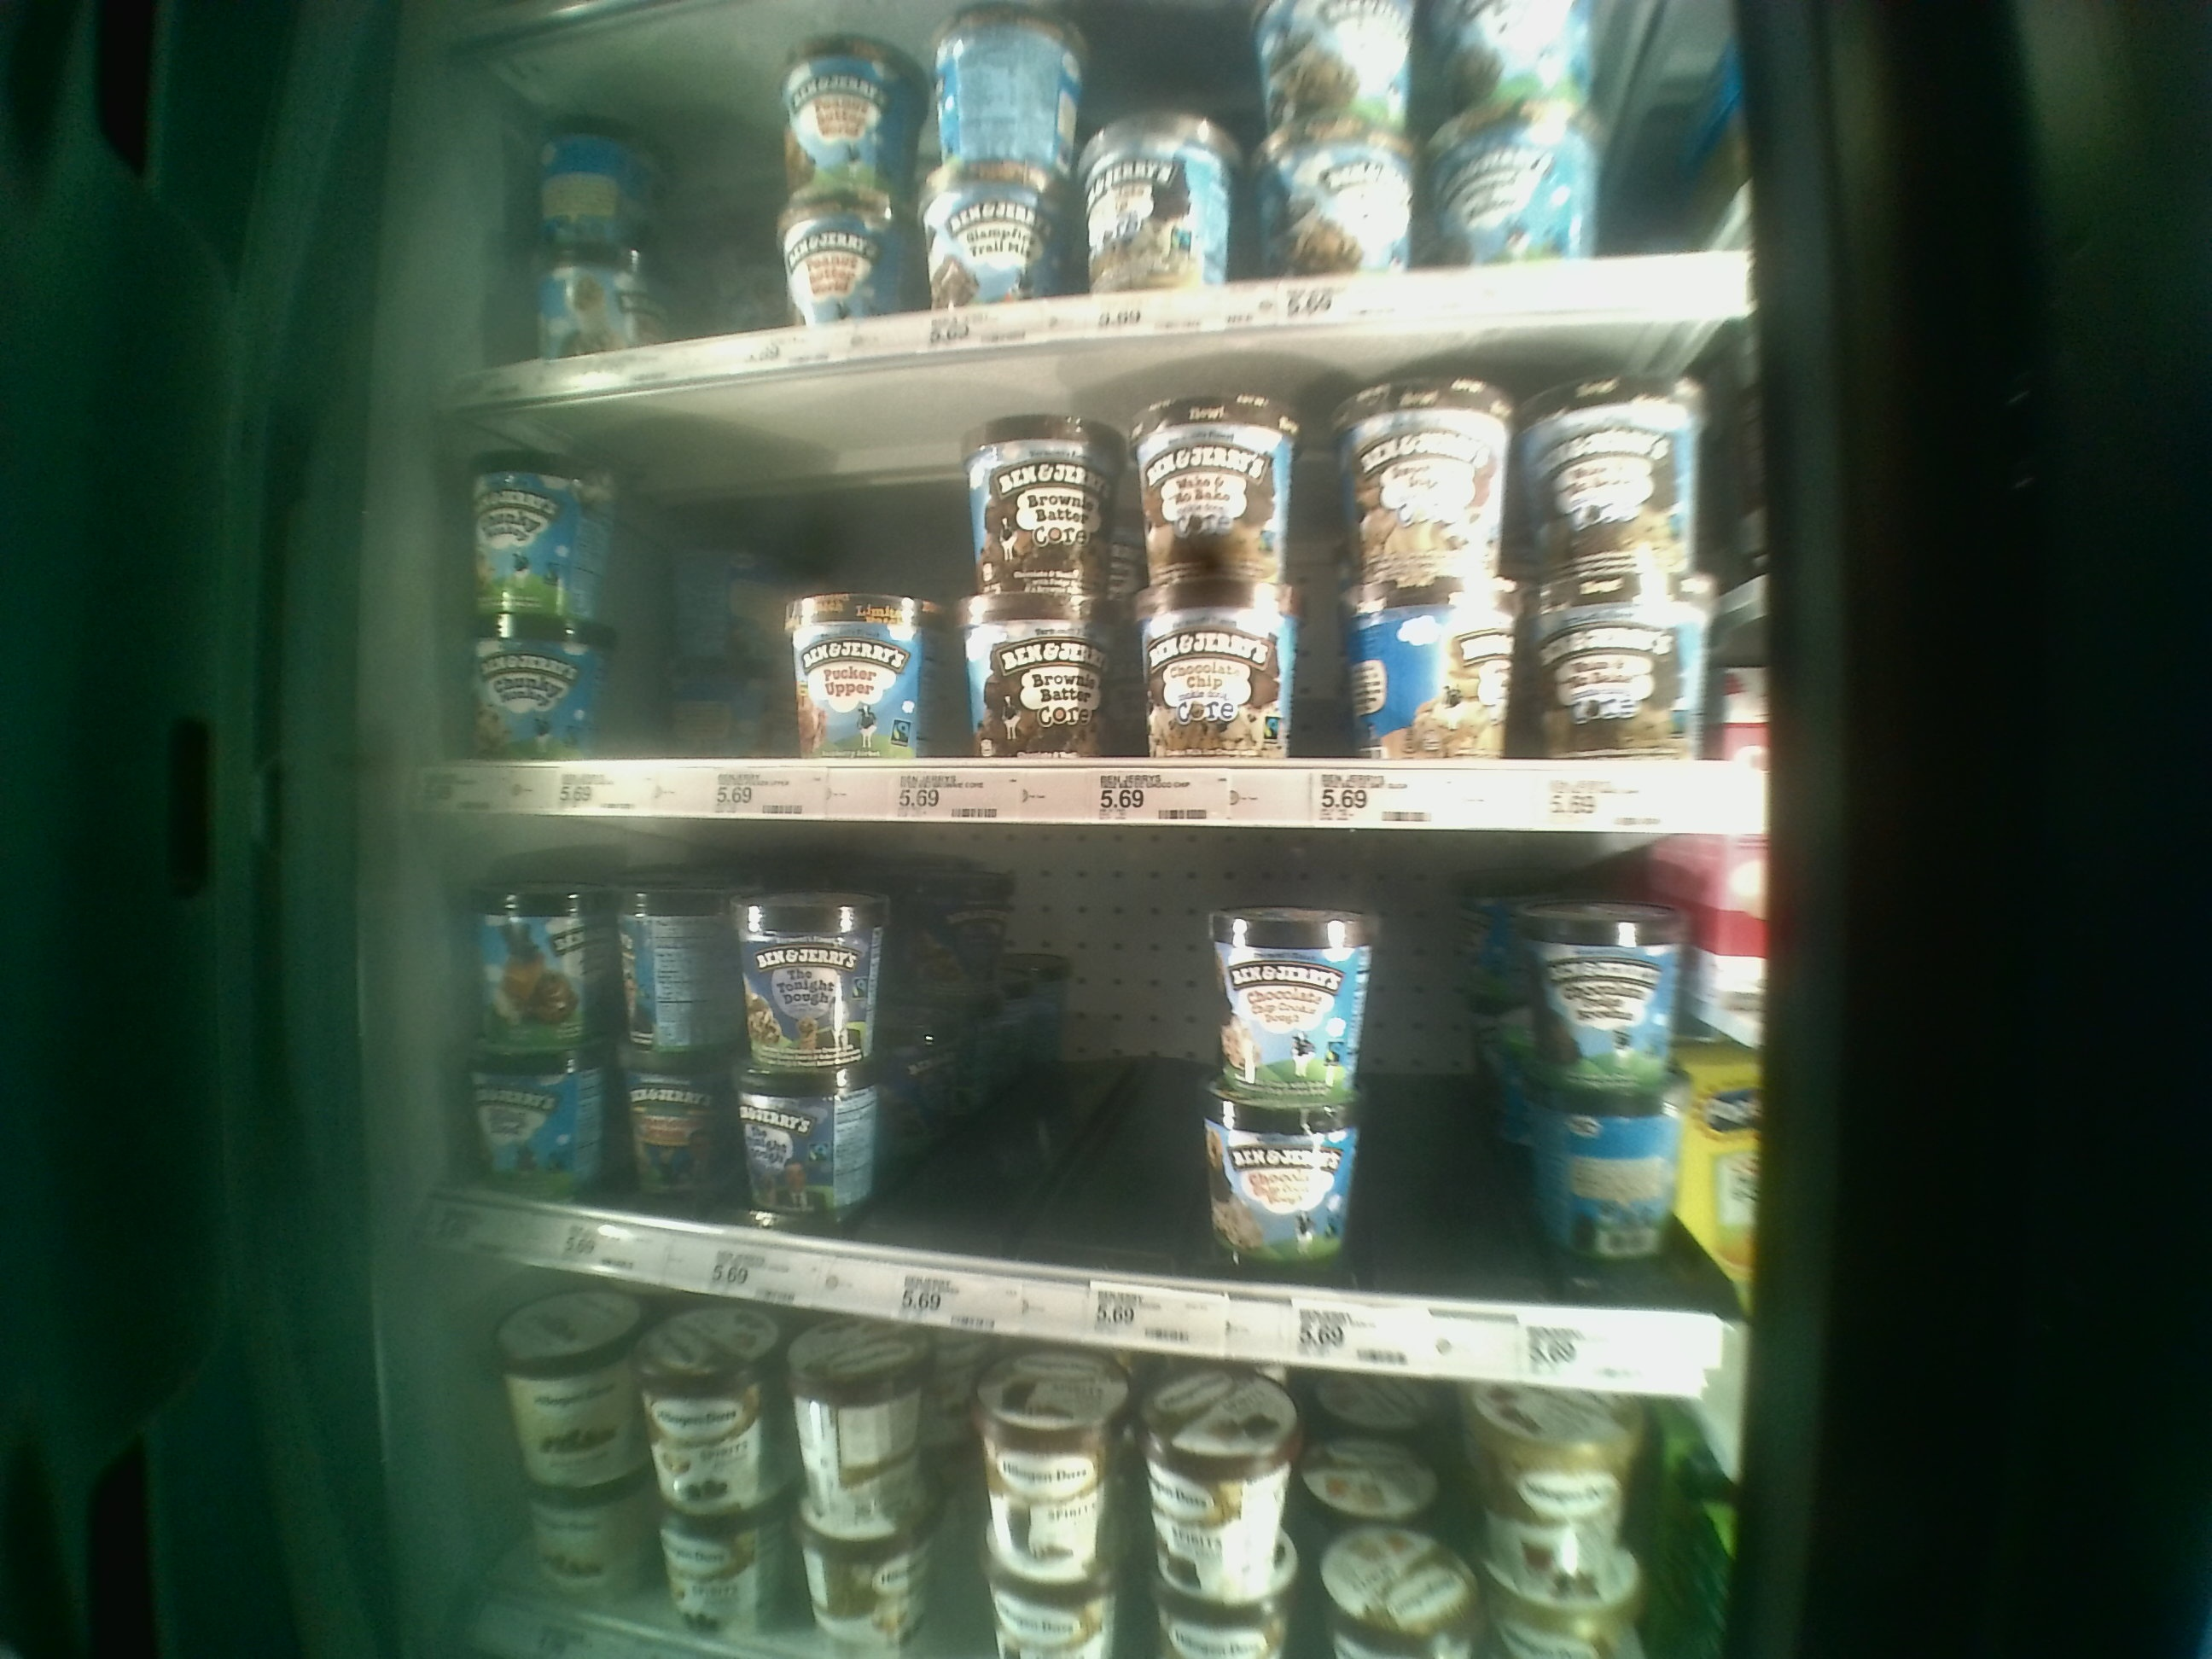shelf: (444, 824, 1761, 1412), (444, 307, 1761, 828)
